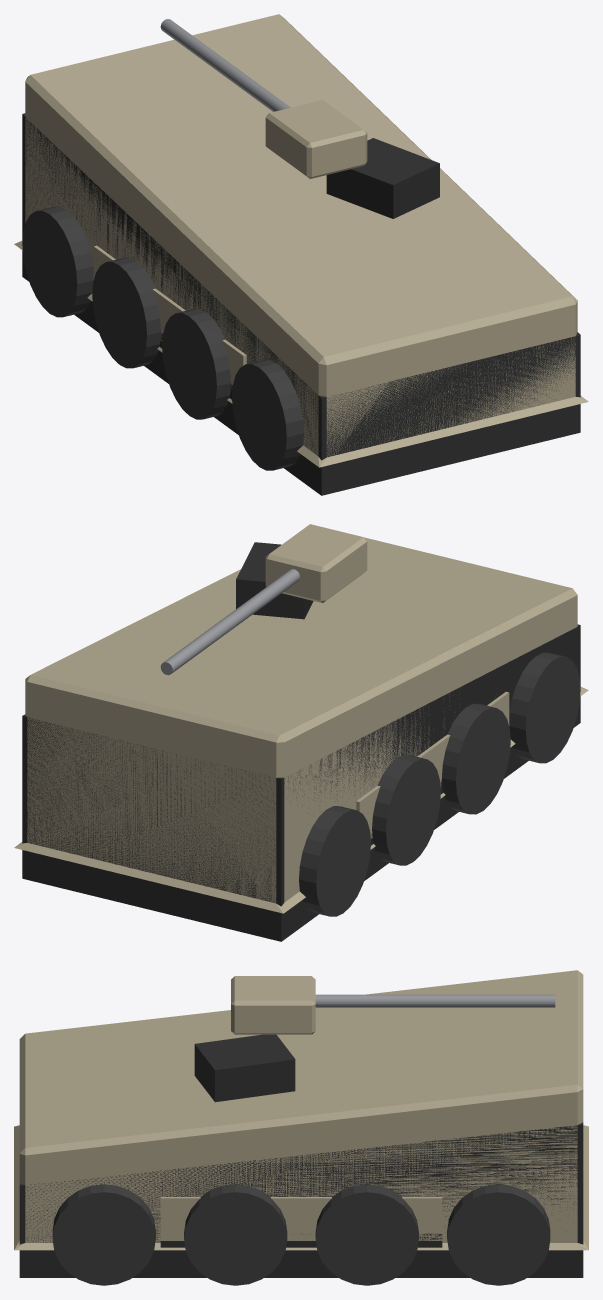
The model's file is IFV.fbx.
3 views of the same model, one above another, from view 1: azimuth 30°, elevation 25°; view 2: azimuth 150°, elevation 25°; view 3: azimuth 270°, elevation 25° (orthographic). The views are drawn at different scales.
Visible parts, largest first — view 1: IFV_Intact, IFV_Wreck; view 2: IFV_Intact, IFV_Wreck; view 3: IFV_Intact, IFV_Wreck.
Part boxes in pixels (<box>): IFV_Intact: <box>14,14,588,470</box>; IFV_Wreck: <box>22,113,580,495</box>; IFV_Intact: <box>14,524,588,916</box>; IFV_Wreck: <box>22,542,580,941</box>; IFV_Intact: <box>14,970,588,1285</box>; IFV_Wreck: <box>19,1034,583,1277</box>.
Bounding box in the file's own units: 340 × 270 × 612.
